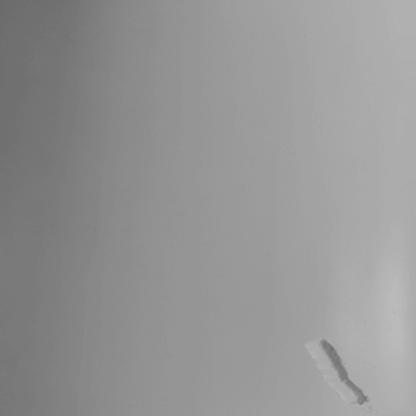sunshang: (304, 341, 370, 406)
